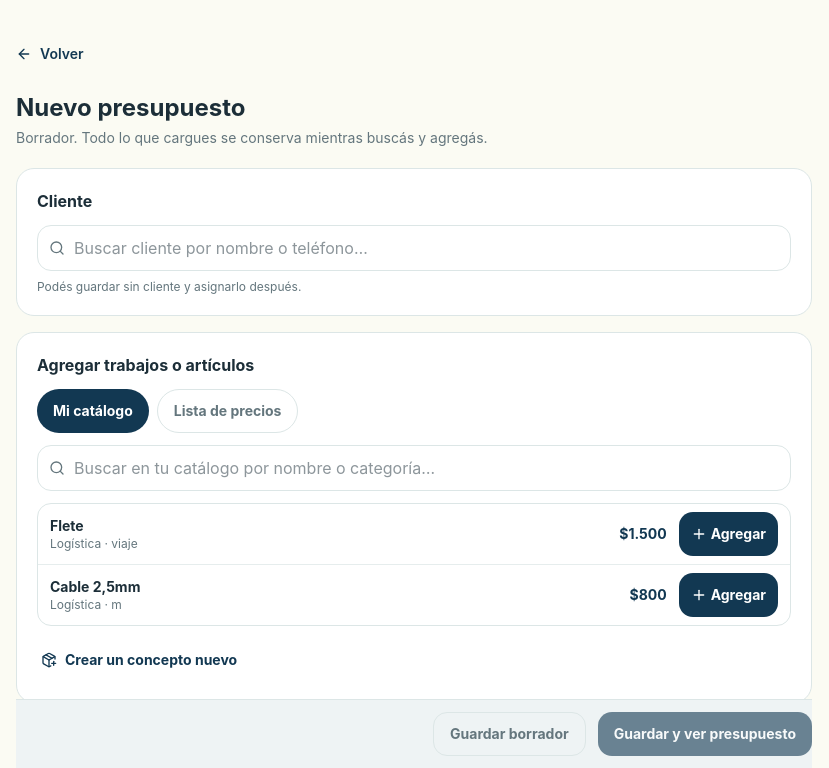
Scenario: formulario de presupuesto: búsqueda y carga › busca en el catálogo propio y agrega líneas; el total se calcula
Click the button with aria-label "Agregar Flete". click: (728, 534)
box: [679,512,778,556]
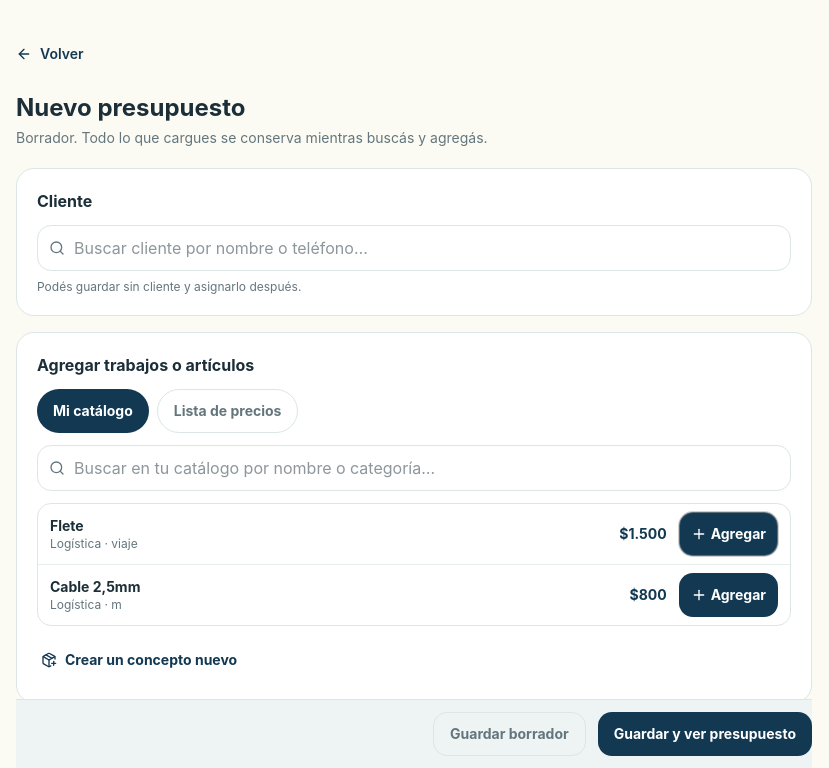
Click the button "Agregar" in the row of "Cable 2,5mm". click: (728, 595)
box: [679,573,778,617]
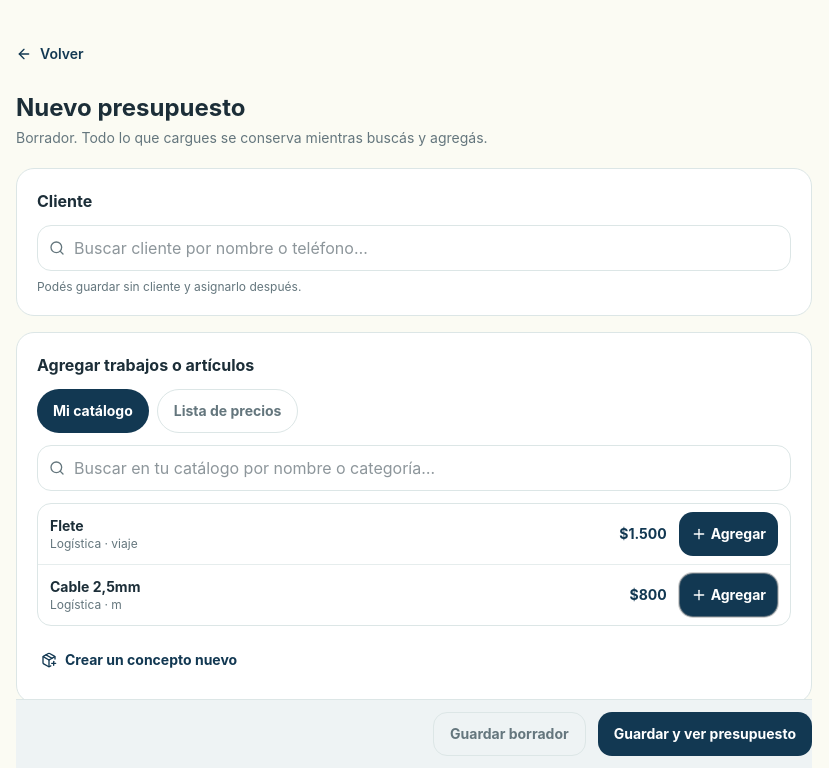
Click the button with aria-label "Agregar Flete". click: (728, 534)
box: [679,512,778,556]
(page scrolled)
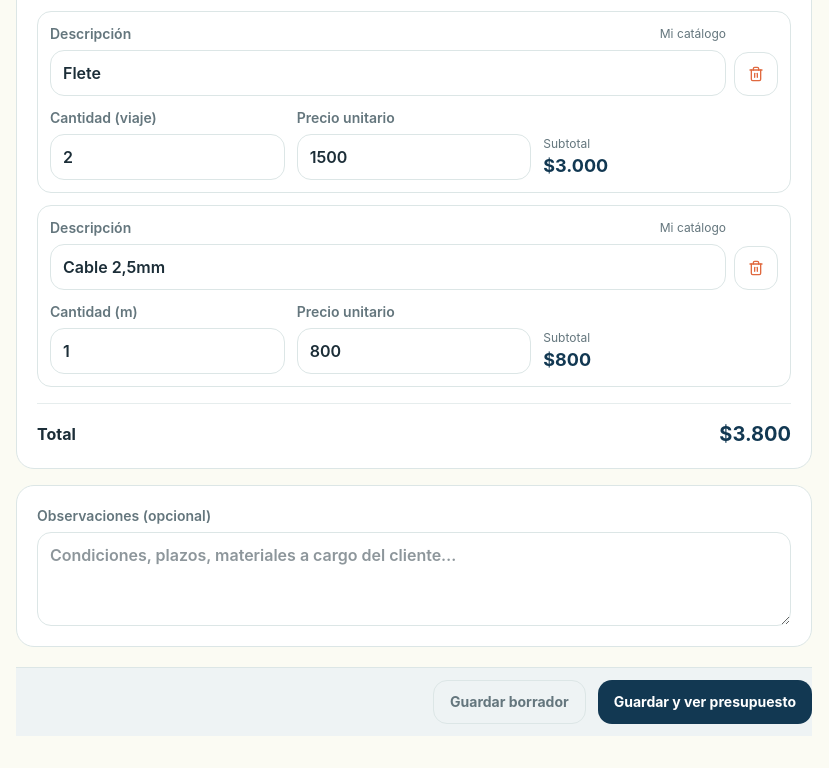
Now the number of fields labelled "Descripción Mi catálogo" is 2, box [50,50,726,96]; [50,244,726,290]
Now the text with test id "quote-total" shows "3.800", box [719,422,791,446]
